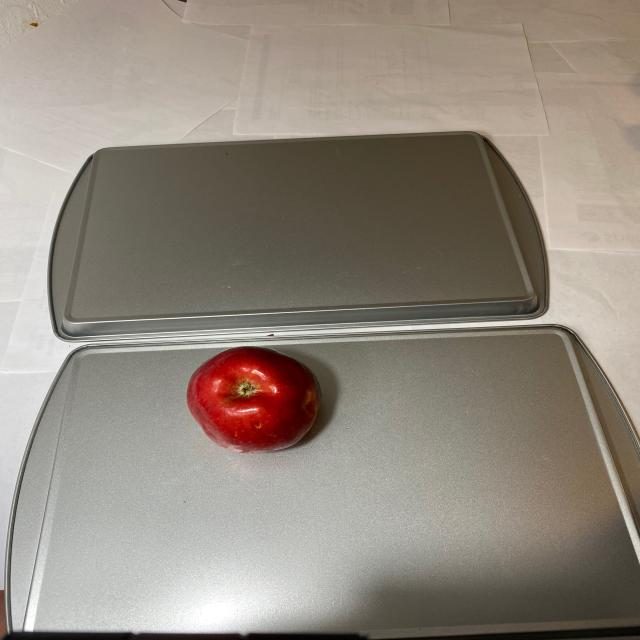Apple: (187, 346, 321, 454)
